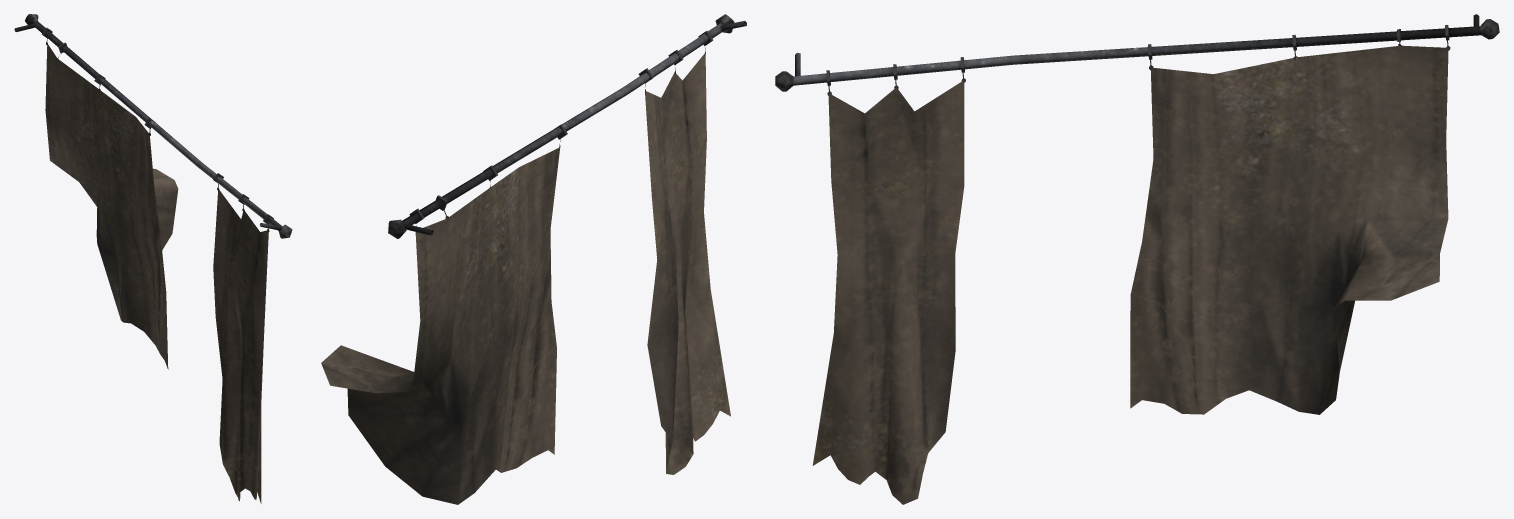
Rendered from Double_CheapCurtainSet_T04.FBX.
3 views of the same model, side by side, from view 1: azimuth 30°, elevation 25°; view 2: azimuth 150°, elevation 25°; view 3: azimuth 270°, elevation 25° (orthographic). The views are drawn at different scales.
Parts seen in each view (by area): view 1: Double_CheapCurtainSet_T04; view 2: Double_CheapCurtainSet_T04; view 3: Double_CheapCurtainSet_T04.
Boxes of the visible parts, x1,y1,x2,y2 form: Double_CheapCurtainSet_T04: (14, 14, 292, 503); Double_CheapCurtainSet_T04: (321, 14, 746, 504); Double_CheapCurtainSet_T04: (775, 14, 1499, 504).
Bounding box in the file's own units: 70.78 × 202 × 275.
